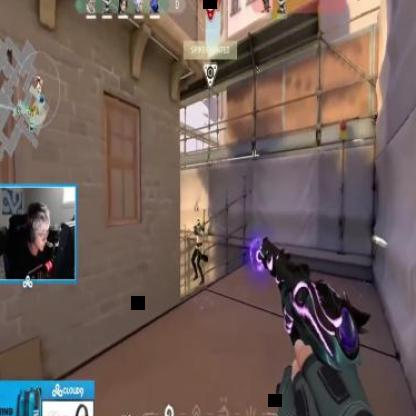enemy: (192, 218, 204, 286)
enemy_head: (197, 219, 200, 226)
